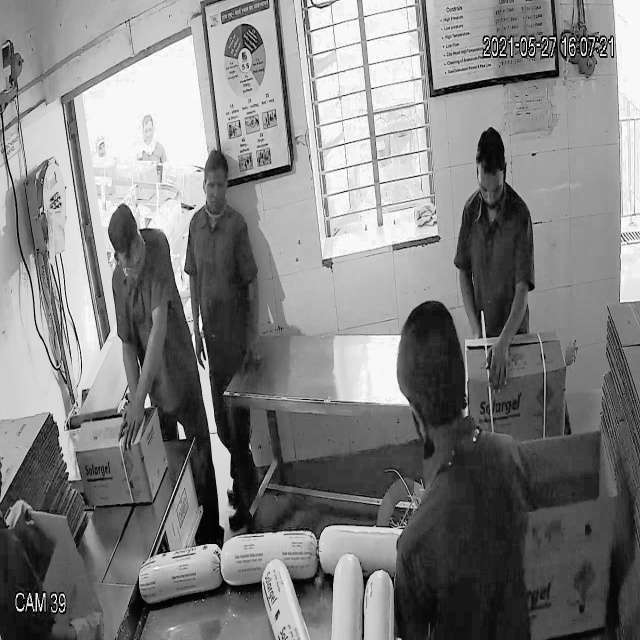Sin_gafas: (111, 230, 146, 271), (475, 171, 508, 205)
